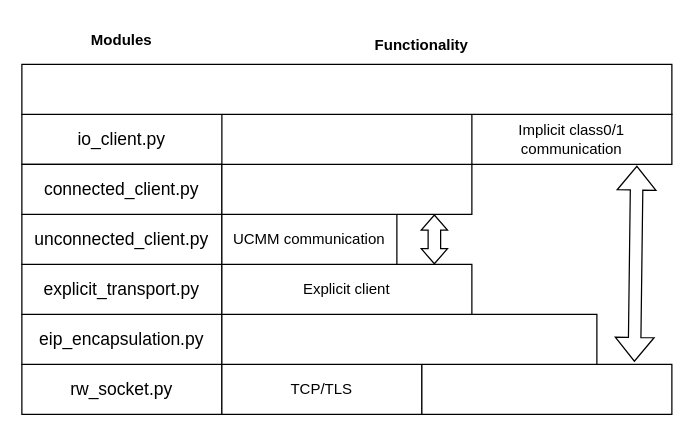
The diagram is 694 pixels wide and 436 high, and some of its shapes have lost their labels. The shapes that lost their labels are listed below. From the top down, each one's centre as x and y in pixels, then its label:
At point 346,88: "cip_objects".
At point 346,188: "Connected class3 communication".
At point 409,338: "Encapsulation Services".
At point 546,388: "UDP/DTLS".
